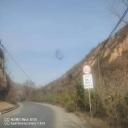speed_limit_60: (83, 64, 91, 74)
